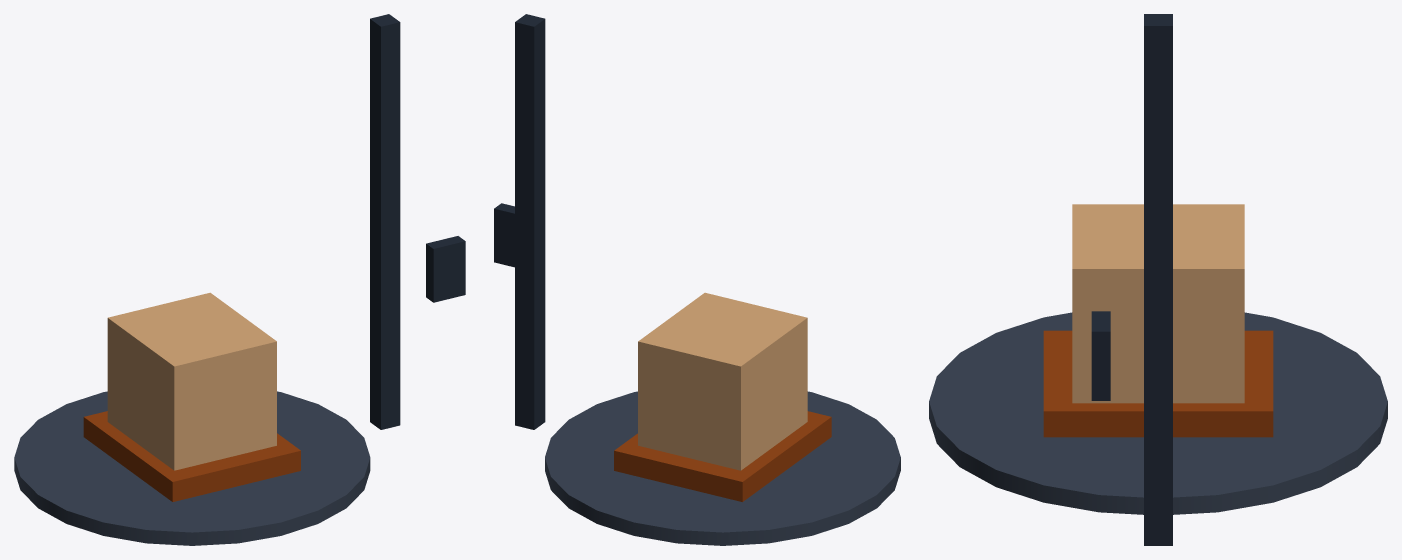
Rendered from yard-stretch-wrap-body-authored-atlas.glb.
3 views of the same model, side by side, from view 1: azimuth 30°, elevation 25°; view 2: azimuth 150°, elevation 25°; view 3: azimuth 270°, elevation 25° (orthographic). The views are drawn at different scales.
Visible parts, largest first — view 1: Authored surface.026; view 2: Authored surface.026; view 3: Authored surface.026.
Boxes of the visible parts, box(x1,y1,x2,y2) form: Authored surface.026: box(14, 14, 465, 545); Authored surface.026: box(494, 14, 900, 545); Authored surface.026: box(929, 14, 1387, 545).
Size of the model in its own units: 3.12 by 3 by 2.4.
1 material, 1 textured.
